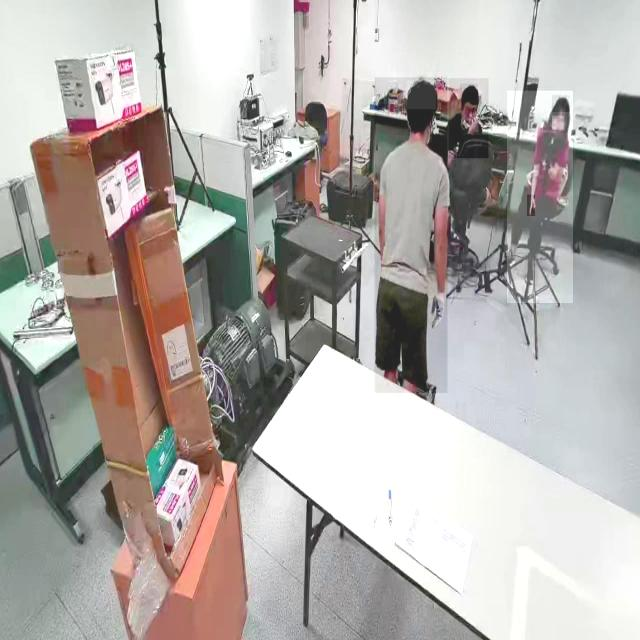face_nomask: (552, 116, 565, 130)
hand_noglove: (469, 114, 479, 133), (527, 195, 535, 217)
head_nohelmet: (406, 80, 436, 110), (552, 95, 570, 113), (461, 84, 478, 102)
person: (374, 77, 448, 394), (507, 91, 573, 304), (449, 78, 489, 159)
